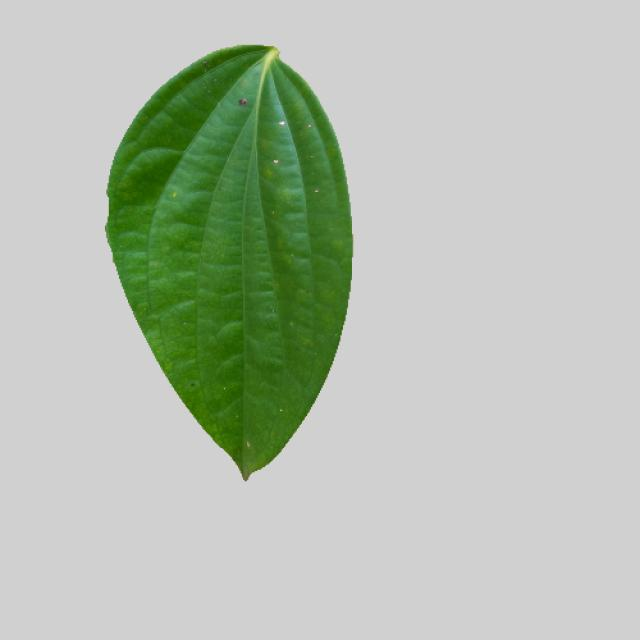healthy: (103, 42, 363, 491)
